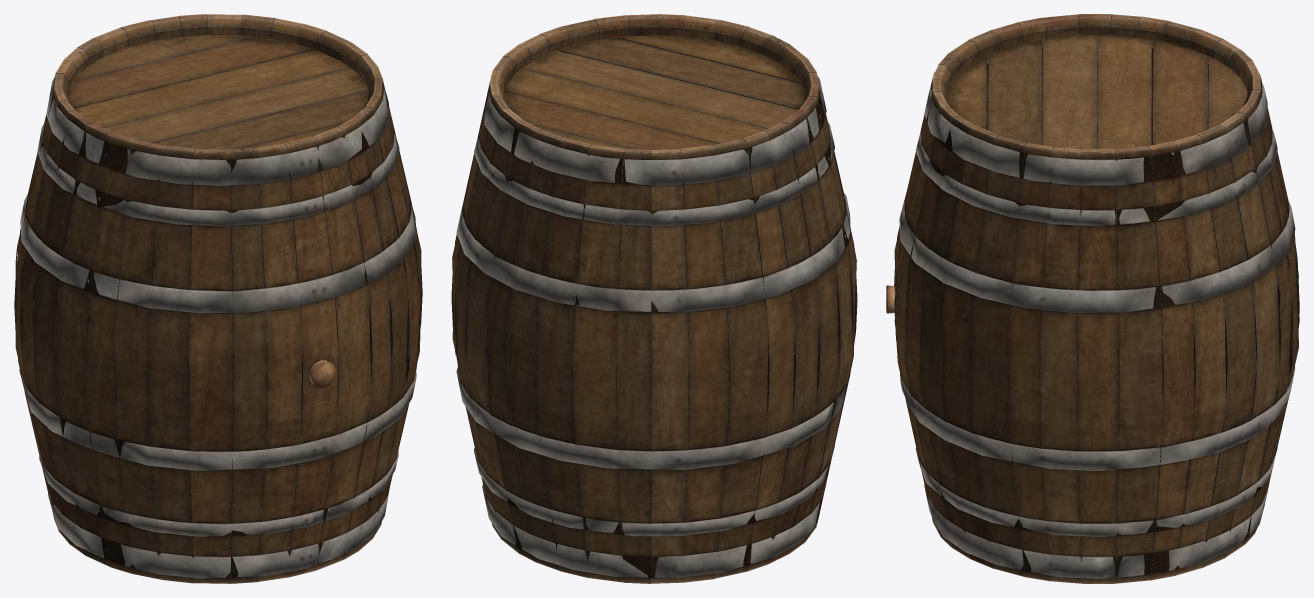
The model's file is wine_barrel_01.glb.
3 views of the same model, side by side, from view 1: azimuth 30°, elevation 25°; view 2: azimuth 150°, elevation 25°; view 3: azimuth 270°, elevation 25° (orthographic).
Visible parts, largest first — view 1: wine_barrel_01, wine_barrel_01_Lid, wine_barrel_01_bung; view 2: wine_barrel_01, wine_barrel_01_Lid; view 3: wine_barrel_01, wine_barrel_01_Lid.
Part boxes in pixels (bbox=[...]): wine_barrel_01: bbox=[14, 14, 422, 583]; wine_barrel_01_Lid: bbox=[67, 35, 368, 149]; wine_barrel_01_bung: bbox=[309, 360, 336, 388]; wine_barrel_01: bbox=[451, 14, 857, 583]; wine_barrel_01_Lid: bbox=[504, 35, 805, 152]; wine_barrel_01: bbox=[894, 14, 1299, 583]; wine_barrel_01_Lid: bbox=[946, 35, 1247, 149].
Bounding box in the file's own units: 0.7419 × 0.8703 × 0.7558.
1 material, 1 textured.
